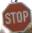Stop sign: (0, 0, 31, 32)
